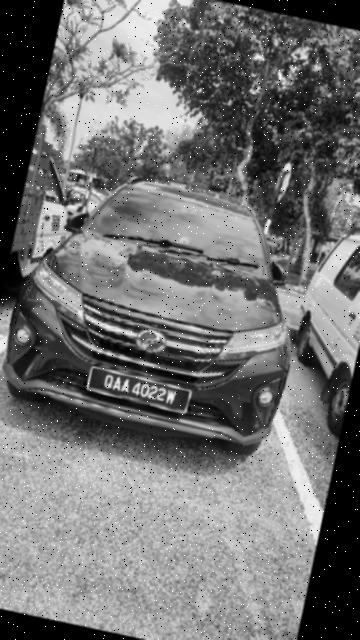License_Plate: (81, 363, 197, 419)
car: (1, 149, 335, 468)
